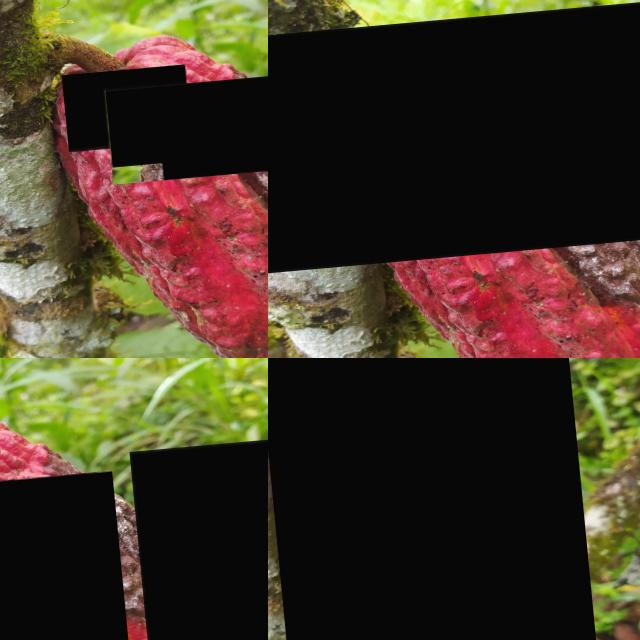Fitoftora: (268, 358, 588, 640)
Monilia: (268, 3, 640, 278), (124, 447, 268, 640), (0, 478, 125, 640), (99, 77, 268, 188), (57, 71, 186, 155)
